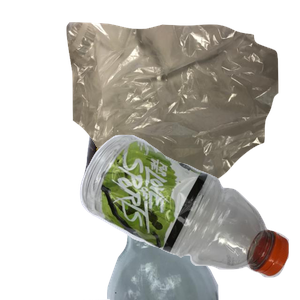glass: (83, 120, 294, 300)
metal: (78, 63, 266, 243)
plastic: (77, 132, 300, 300)
trash: (64, 20, 300, 200)
